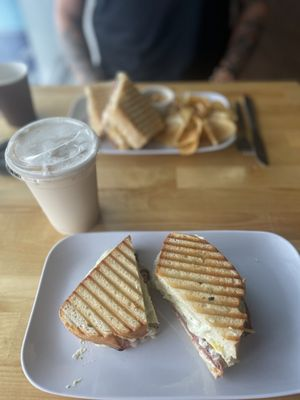pizza: (3, 117, 100, 235)
sandwich: (244, 95, 268, 166)
soup: (150, 231, 256, 380)
